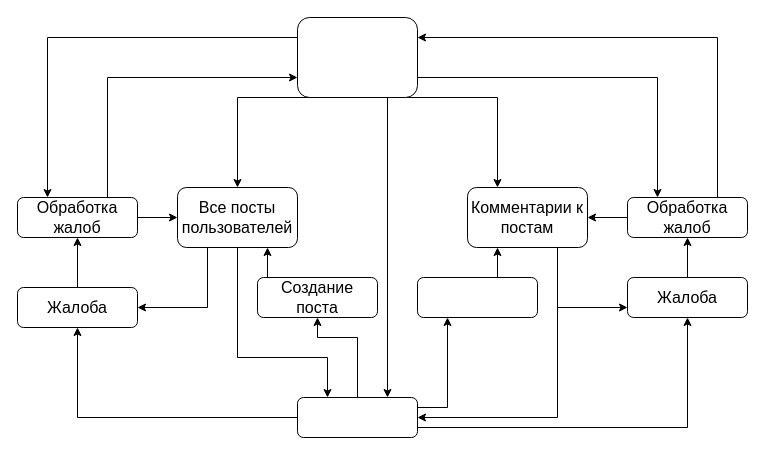
Some shapes in this 765 by 455 pixel diagram are drawn without their labels. Here are the shapes that lost their labels. From the top down, the centre of each, then its label:
At [357,57]: "Admin".
At [477,297]: "Оставить комментарий".
At [357,417]: "User".
